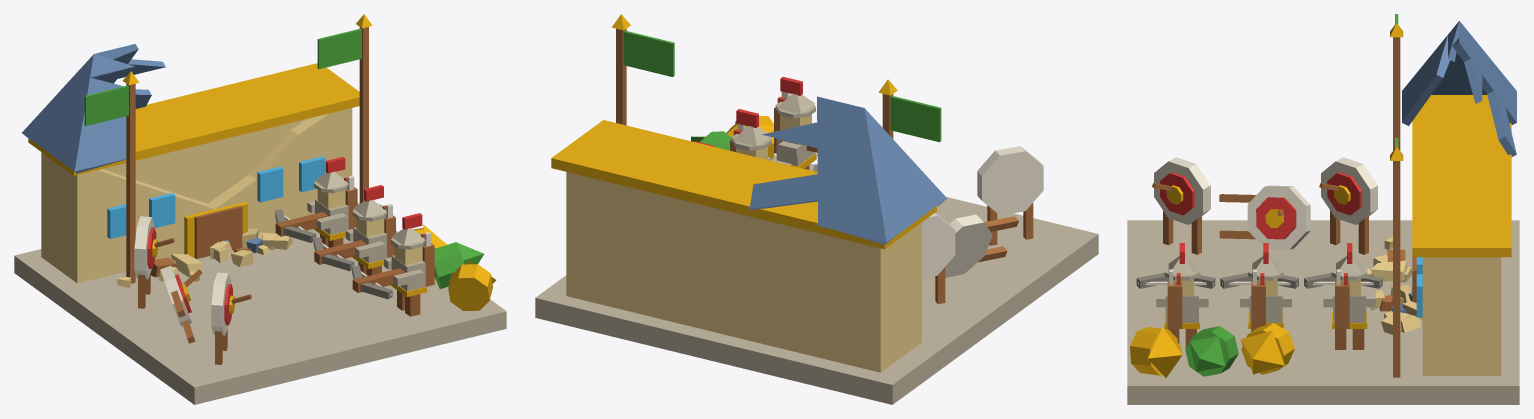
Rendered from archery_range_t3_v2_dmg1.glb.
3 views of the same model, side by side, from view 1: azimuth 30°, elevation 25°; view 2: azimuth 150°, elevation 25°; view 3: azimuth 270°, elevation 25° (orthographic). The views are drawn at different scales.
Visible parts, largest first — view 1: archery_range_t3_v2_dmg1; view 2: archery_range_t3_v2_dmg1; view 3: archery_range_t3_v2_dmg1.
Boxes of the visible parts, x1,y1,x2,y2 form: archery_range_t3_v2_dmg1: [14, 14, 506, 404]; archery_range_t3_v2_dmg1: [535, 14, 1098, 404]; archery_range_t3_v2_dmg1: [1127, 14, 1519, 404].
Bounding box in the file's own units: 0.7763 × 0.525 × 0.75.
1 material, 1 textured.
